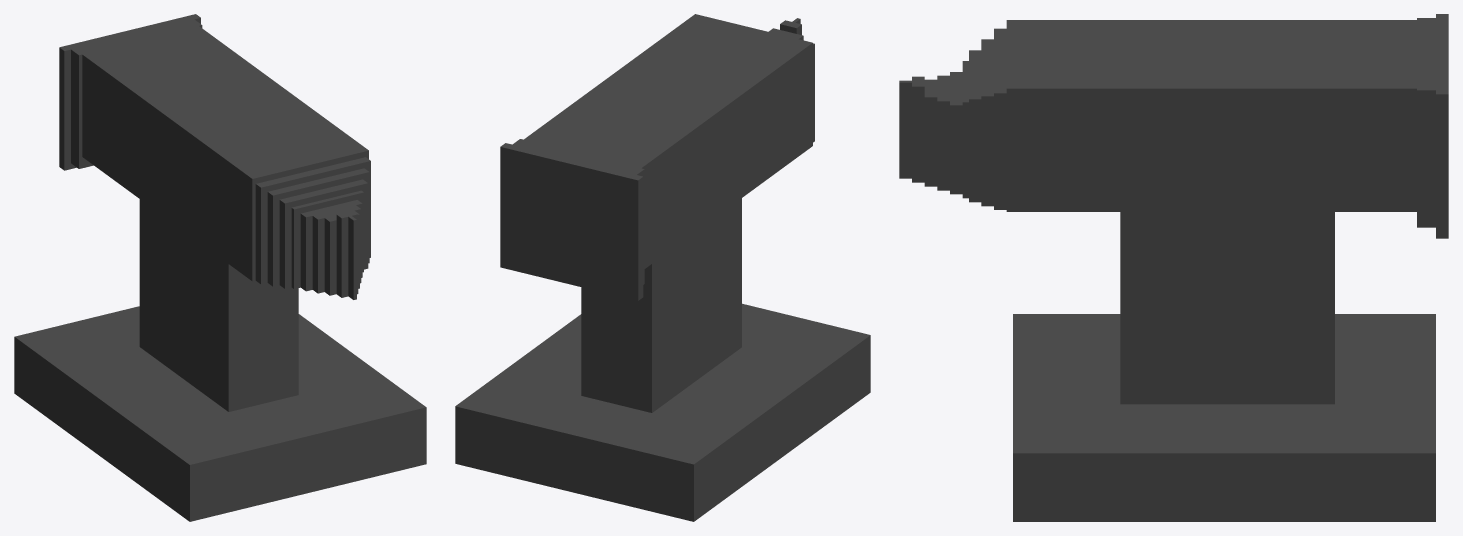
The model's file is anvil.glb.
3 renders of one model, left to right at view 1: azimuth 30°, elevation 25°; view 2: azimuth 150°, elevation 25°; view 3: azimuth 270°, elevation 25°, orthographic. The views are drawn at different scales.
Parts seen in each view (by area): view 1: Untitled; view 2: Untitled; view 3: Untitled.
Boxes of the visible parts, <box> form: Untitled: <box>14,14,426,521</box>; Untitled: <box>455,14,870,521</box>; Untitled: <box>899,14,1448,521</box>.
Bounding box in the file's own units: 0.3 × 0.4 × 0.5.
1 material, 1 textured.
